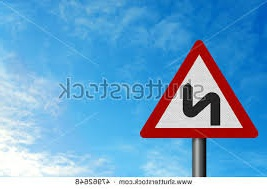Double_bend_left: (139, 39, 259, 139)
